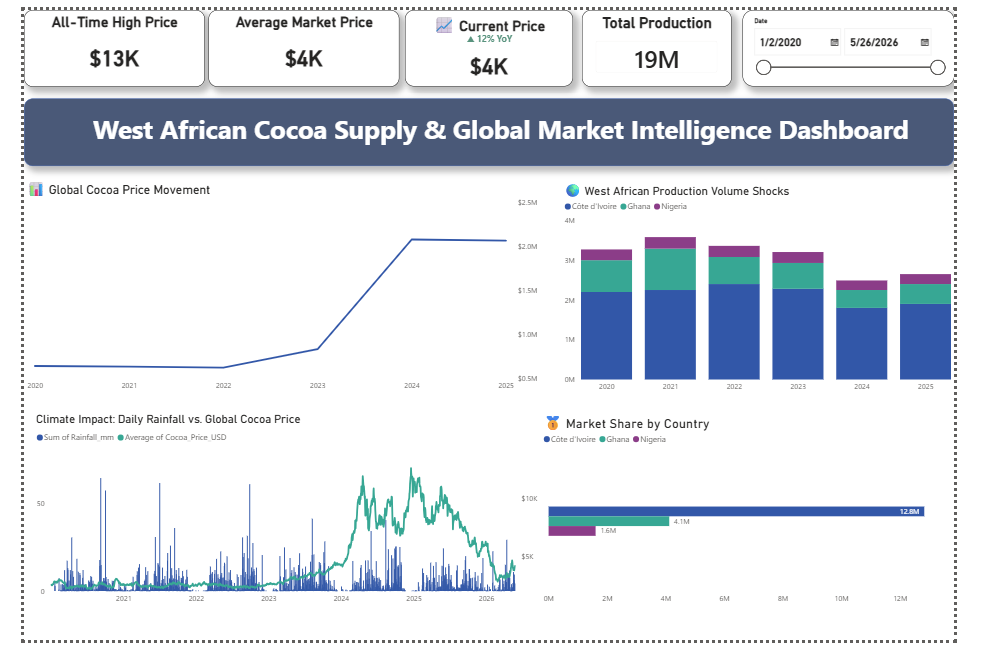

The dashboard page shown, as its layout file describes it:
{"tool":"powerbi","page":{"name":"Page 1","canvas":[1550,1050],"ordinal":0},"visuals":[{"type":"card","title":"All-Time High Price","fields":{"Values":["Max(clean_cocoa_weather_data.Cocoa_Price_USD)"]},"box":[0,0,301.4,128.2],"z":0},{"type":"card","title":"Average Market Price","fields":{"Values":["Avg(clean_cocoa_weather_data.Cocoa_Price_USD)"]},"box":[308.5,0,318,128.2],"z":1000},{"type":"lineClusteredColumnComboChart","title":"Climate Impact: Daily Rainfall vs. Global Cocoa Price","fields":{"Category":["clean_cocoa_weather_data.Date"],"Y":["Sum(clean_cocoa_weather_data.Rainfall_mm)"],"Y2":["Avg(clean_cocoa_weather_data.Cocoa_Price_USD)"]},"box":[14,670,846,328],"z":2000},{"type":"slicer","fields":{"Values":["clean_cocoa_weather_data.Date"]},"box":[1196.8,0,353.2,127.5],"z":3000},{"type":"lineChart","title":"📊 Global Cocoa Price Movement","fields":{"Category":["regional_production.Year"],"Y2":["Sum(clean_cocoa_weather_data.Cocoa_Price_USD)"]},"box":[0,282,860.8,360.5],"z":4000},{"type":"clusteredBarChart","title":"🥇 Market Share by Country","fields":{"Y":["Sum(regional_production.Côte d'Ivoire)","Sum(regional_production.Ghana)","Sum(regional_production.Nigeria)"]},"box":[860,670,690,328],"z":5000},{"type":"lineStackedColumnComboChart","title":"🌍 West African Production Volume Shocks","fields":{"Category":["regional_production.Year"],"Y":["Sum(regional_production.Cote_d_Ivoire)","Sum(regional_production.Ghana)","Sum(regional_production.Nigeria)"]},"box":[895.2,284.5,654.8,360.5],"z":6000},{"type":"textbox","box":[0,147.2,1550,112.8],"z":7000},{"type":"card","title":"📈 Current Price","fields":{"Values":["clean_cocoa_weather_data.Current Cocoa Price"]},"box":[635,0,280,127.5],"z":8000},{"type":"cardVisual","title":"Total Production","fields":{"Data":["clean_cocoa_weather_data.Total Production"]},"box":[930.4,0,249.2,128.2],"z":9000}]}

Visuals, with their boxes in screenshot pixels (x1, y1, x2, y2), scaled from the page's 1550x1050 canvas onto the 983x658 screenshot:
"All-Time High Price" card: 0,0,191,80
"Average Market Price" card: 196,0,397,80
"Climate Impact: Daily Rainfall vs. Global Cocoa Price" lineClusteredColumnComboChart: 9,420,545,625
slicer - clean_cocoa_weather_data.Date: 759,0,982,80
"📊 Global Cocoa Price Movement" lineChart: 0,177,546,403
"🥇 Market Share by Country" clusteredBarChart: 545,420,982,625
"🌍 West African Production Volume Shocks" lineStackedColumnComboChart: 568,178,982,404
textbox: 0,92,982,163
"📈 Current Price" card: 403,0,580,80
"Total Production" cardVisual: 590,0,748,80
